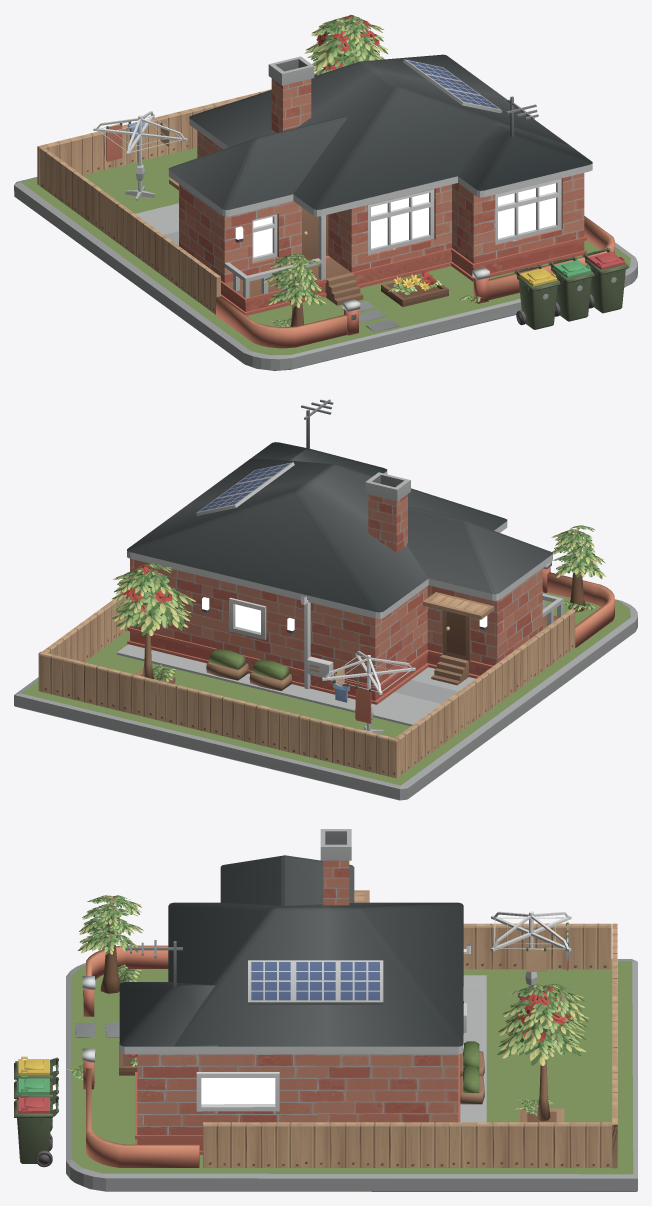
Rendered from Red Brick House.fbx.
3 renders of one model, top to bottom at view 1: azimuth 30°, elevation 25°; view 2: azimuth 150°, elevation 25°; view 3: azimuth 270°, elevation 25°, orthographic. The views are drawn at different scales.
Visible parts, largest first — view 1: Red Brick House_Roof, Base, Fence, Red Brick House_Exterior, Red Brick House_Foundation, Window, Red Brick House_Window frames, Red Brick House_Roof trim, Bottle Brush, Chimney, Tree_01, Hills Hoist (+12 smaller); view 2: Red Brick House_Roof, Fence, Base, Red Brick House_Exterior, Pavement, Bottle Brush, Red Brick House_Foundation, Red Brick House_Roof trim, Chimney, Tree_01, Solar panels, Hills Hoist (+9 smaller); view 3: Red Brick House_Roof, Base, Fence, Red Brick House_Exterior, Solar panels, Bottle Brush, Tree_01, Red Brick House_Roof trim, Chimney, Pavement, Hills Hoist, Window (+11 smaller).
Boxes of the visible parts, x1,y1,x2,y2 form: Red Brick House_Roof: [168, 54, 592, 209]; Base: [14, 147, 637, 370]; Fence: [37, 89, 614, 348]; Red Brick House_Exterior: [179, 131, 584, 282]; Red Brick House_Foundation: [221, 235, 586, 315]; Window: [253, 183, 555, 257]; Red Brick House_Window frames: [252, 178, 561, 262]; Red Brick House_Roof trim: [168, 118, 592, 216]; Bottle Brush: [304, 15, 388, 75]; Chimney: [268, 56, 314, 132]; Tree_01: [263, 253, 325, 326]; Hills Hoist: [93, 111, 187, 200]; Red Brick House_Roof: [127, 442, 552, 612]; Fence: [38, 561, 614, 778]; Base: [14, 592, 637, 800]; Red Brick House_Exterior: [130, 558, 542, 687]; Pavement: [117, 644, 475, 726]; Bottle Brush: [112, 563, 195, 678]; Red Brick House_Foundation: [127, 615, 556, 704]; Red Brick House_Roof trim: [127, 470, 552, 618]; Chimney: [365, 472, 410, 552]; Tree_01: [551, 525, 606, 611]; Solar panels: [196, 462, 294, 515]; Hills Hoist: [322, 651, 415, 733]; Red Brick House_Roof: [119, 855, 463, 1046]; Base: [66, 959, 637, 1191]; Fence: [82, 923, 617, 1168]; Red Brick House_Exterior: [137, 1054, 458, 1134]; Solar panels: [248, 960, 383, 1004]; Bottle Brush: [497, 983, 588, 1120]; Tree_01: [78, 895, 143, 993]; Red Brick House_Roof trim: [119, 1044, 463, 1054]; Chimney: [320, 829, 351, 905]; Pavement: [460, 975, 486, 1122]; Hills Hoist: [490, 911, 571, 1006]; Window: [201, 1078, 275, 1104].
Size of the model in its own units: 1559 by 725 by 1872.
6 materials, 5 textured.
